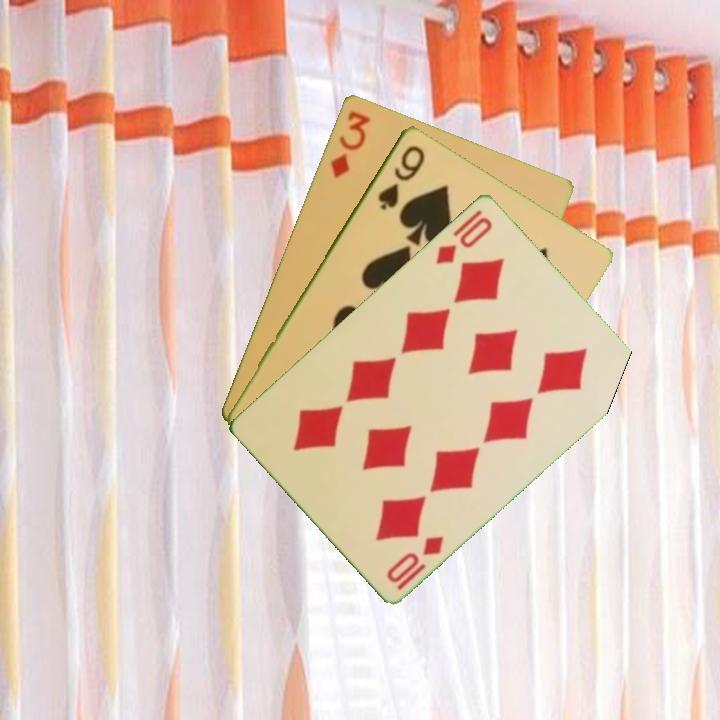10d: (431, 212, 496, 267), (382, 531, 447, 586)
3d: (326, 106, 373, 181)
9s: (374, 141, 428, 213)
